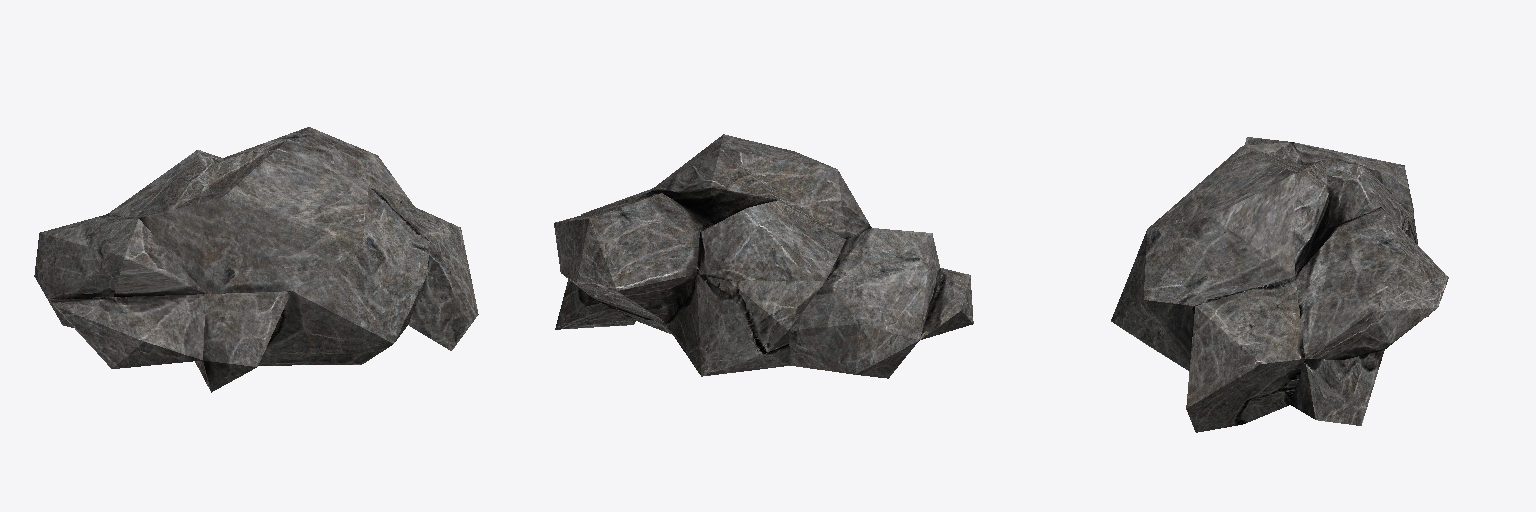
3 views of the same model, side by side, from view 1: azimuth 30°, elevation 25°; view 2: azimuth 150°, elevation 25°; view 3: azimuth 270°, elevation 25° (orthographic).
Visible parts, largest first — view 1: Rocks_02; view 2: Rocks_02; view 3: Rocks_02.
Part boxes in pixels (x1,y1,x2,y2): Rocks_02: (34,127,478,392); Rocks_02: (554,134,973,378); Rocks_02: (1111,137,1448,432).
Bounding box in the file's own units: 135 × 67.49 × 101.
1 materials, 1 textured.